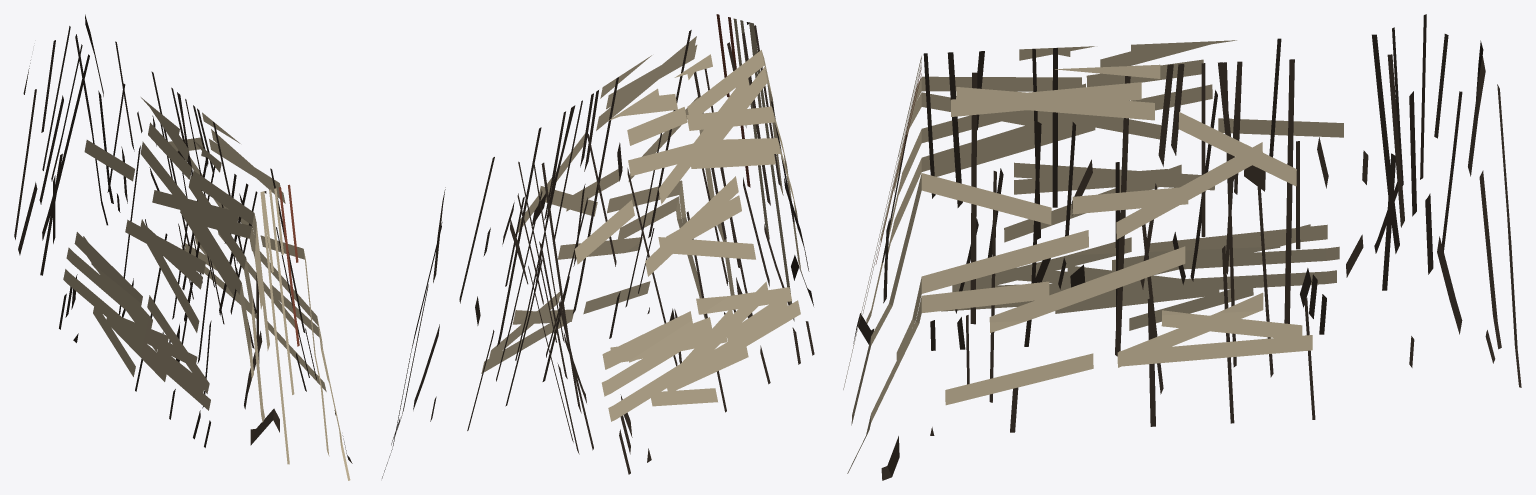
File: dam_domes_fin_mid_detail1.glb
3 renders of one model, left to right at view 1: azimuth 30°, elevation 25°; view 2: azimuth 150°, elevation 25°; view 3: azimuth 270°, elevation 25°, orthographic. The views are drawn at different scales.
Visible parts, largest first — view 1: dam_domes_fin_mid_detail1; view 2: dam_domes_fin_mid_detail1; view 3: dam_domes_fin_mid_detail1.
Part boxes in pixels (x1,y1,x2,y2): dam_domes_fin_mid_detail1: [14, 14, 352, 480]; dam_domes_fin_mid_detail1: [382, 14, 814, 478]; dam_domes_fin_mid_detail1: [843, 14, 1521, 480].
Size of the model in its own units: 8 by 18.26 by 26.81.
